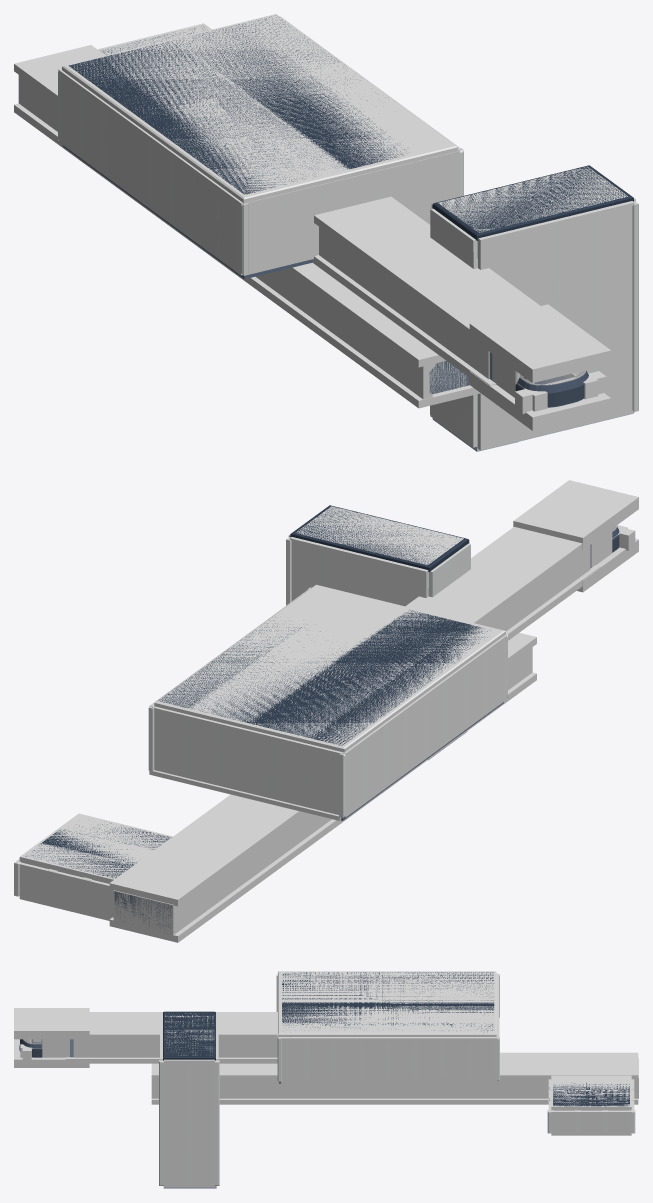
File: inside-spaceship.glb
3 views of the same model, one above another, from view 1: azimuth 30°, elevation 25°; view 2: azimuth 150°, elevation 25°; view 3: azimuth 270°, elevation 25° (orthographic). The views are drawn at different scales.
Parts seen in each view (by area): view 1: COL-LAB-ROOF, Cube.146, COL-STAIRCASE-SIDE.001, COL-LAB-WALL.002, COL-FIRST-FLOOR-GROUND.002, Cube.137, COL_CR_CEILING, COL-FIRST-FLOOR-WALL-1, COL-STAIRCASE-FLOOR.001, COL-FIRST-FLOOR-ROOF, COL-LAB-WALL.005, COL-FIRST-FLOOR-WALL-1.015 (+14 smaller); view 2: COL-LAB-ROOF, Cube.146, COL-LAB-WALL.001, COL-LAB-WALL.002, COL-FIRST-FLOOR-ROOF, COL-FIRST-FLOOR-GROUND.002, COL-STAIRCASE-SIDE.002, COL-ROOM-ROOF, COL_CR_CEILING, COL-STAIRCASE-FLOOR.001, COL-FIRST-FLOOR-WALL-1, Cube.137 (+11 smaller); view 3: COL-LAB-ROOF, COL-LAB-WALL.003, COL-STAIRCASE-SIDE.003, COL-FIRST-FLOOR-WALL-1.002, Cube.146, COL-FIRST-FLOOR-ROOF, COL-FIRST-FLOOR-GROUND.002, Cube.137, COL-ROOM-ROOF, COL_CR_CEILING, COL-FIRST-FLOOR-GROUND, COL-ROOM-WALL.003 (+8 smaller).
Part boxes in pixels (x1,y1,x2,y2): COL-LAB-ROOF: [62, 14, 458, 203]; Cube.146: [68, 15, 406, 194]; COL-STAIRCASE-SIDE.001: [477, 201, 634, 450]; COL-LAB-WALL.002: [59, 69, 242, 275]; COL-FIRST-FLOOR-GROUND.002: [314, 196, 540, 336]; Cube.137: [432, 165, 633, 240]; COL_CR_CEILING: [469, 304, 611, 382]; COL-FIRST-FLOOR-WALL-1: [19, 75, 429, 399]; COL-STAIRCASE-FLOOR.001: [438, 166, 627, 232]; COL-FIRST-FLOOR-ROOF: [14, 45, 446, 367]; COL-LAB-WALL.005: [245, 185, 318, 274]; COL-FIRST-FLOOR-WALL-1.015: [319, 227, 489, 378]; COL-LAB-ROOF: [154, 584, 505, 752]; Cube.146: [158, 609, 487, 745]; COL-LAB-WALL.001: [151, 706, 342, 814]; COL-LAB-WALL.002: [340, 635, 506, 817]; COL-FIRST-FLOOR-ROOF: [109, 633, 536, 906]; COL-FIRST-FLOOR-GROUND.002: [405, 527, 582, 624]; COL-STAIRCASE-SIDE.002: [289, 537, 428, 606]; COL-ROOM-ROOF: [19, 813, 172, 883]; COL_CR_CEILING: [513, 480, 638, 549]; COL-STAIRCASE-FLOOR.001: [295, 506, 463, 564]; COL-FIRST-FLOOR-WALL-1: [173, 647, 532, 934]; Cube.137: [290, 505, 468, 572]; COL-LAB-ROOF: [278, 971, 496, 1036]; COL-LAB-WALL.003: [279, 1036, 497, 1081]; COL-STAIRCASE-SIDE.003: [164, 1059, 214, 1186]; COL-FIRST-FLOOR-WALL-1.002: [219, 1080, 548, 1098]; Cube.146: [282, 972, 494, 1031]; COL-FIRST-FLOOR-ROOF: [151, 1052, 638, 1079]; COL-FIRST-FLOOR-GROUND.002: [89, 1012, 277, 1038]; Cube.137: [163, 1011, 215, 1060]; COL-ROOM-ROOF: [551, 1075, 631, 1110]; COL_CR_CEILING: [14, 1008, 89, 1039]; COL-FIRST-FLOOR-GROUND: [151, 1098, 638, 1104]; COL-ROOM-WALL.003: [551, 1110, 631, 1133].
Bounding box in the file's own units: 46 × 32 × 138.
